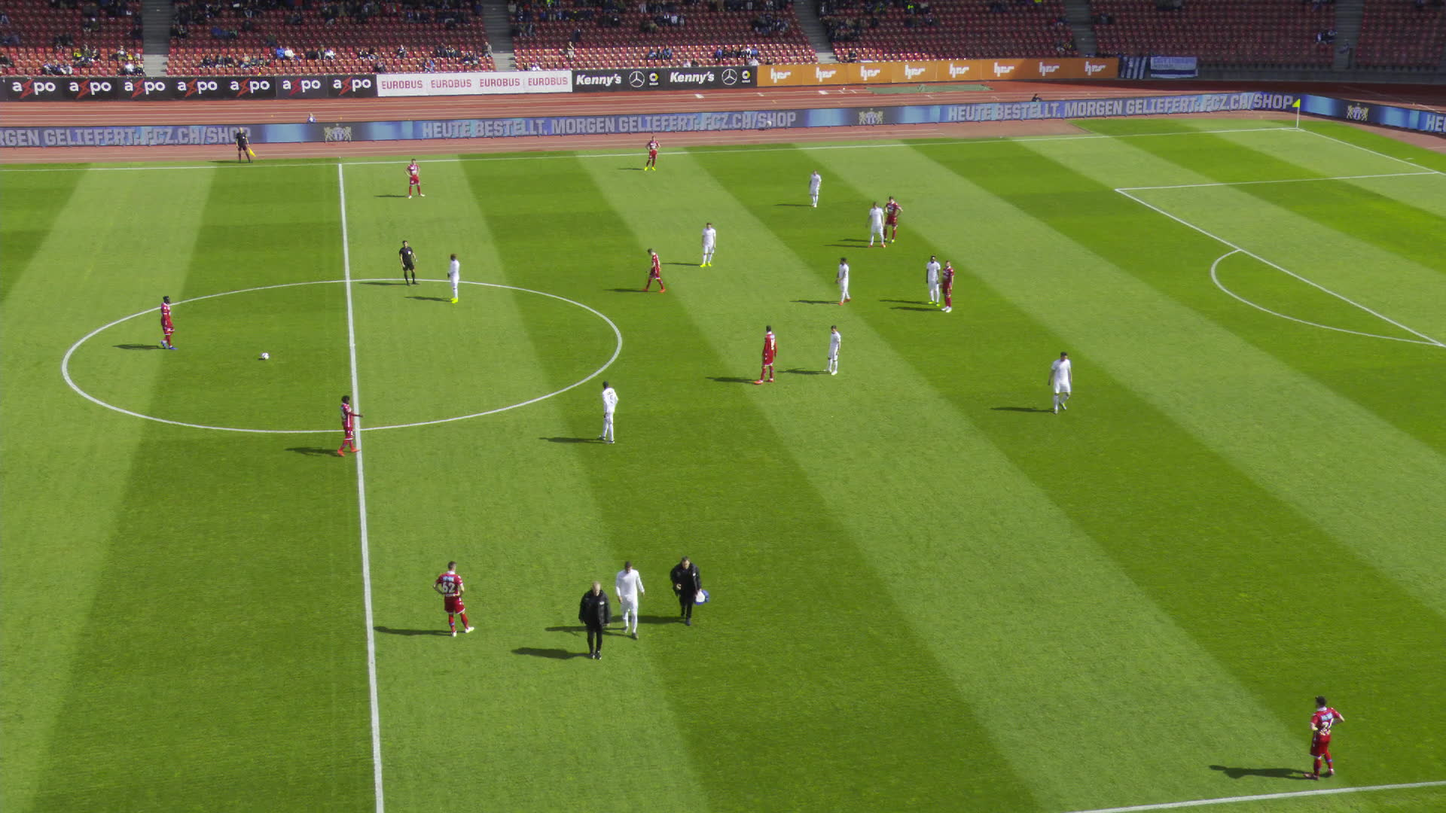ball: (575, 580, 614, 659), (667, 556, 707, 629), (260, 352, 268, 359)
player: (1301, 693, 1344, 781), (432, 560, 474, 639), (613, 557, 644, 638), (1045, 350, 1075, 414), (334, 394, 362, 456), (596, 379, 621, 443), (752, 324, 778, 385), (158, 289, 178, 352), (822, 322, 843, 376), (864, 201, 886, 250), (441, 254, 462, 304), (642, 246, 664, 293), (401, 158, 424, 200), (883, 195, 902, 243), (924, 254, 941, 306), (938, 260, 954, 314), (833, 257, 850, 306), (698, 221, 715, 267), (642, 134, 661, 173), (804, 169, 822, 209)
referee: (396, 240, 419, 287), (235, 126, 255, 165)
